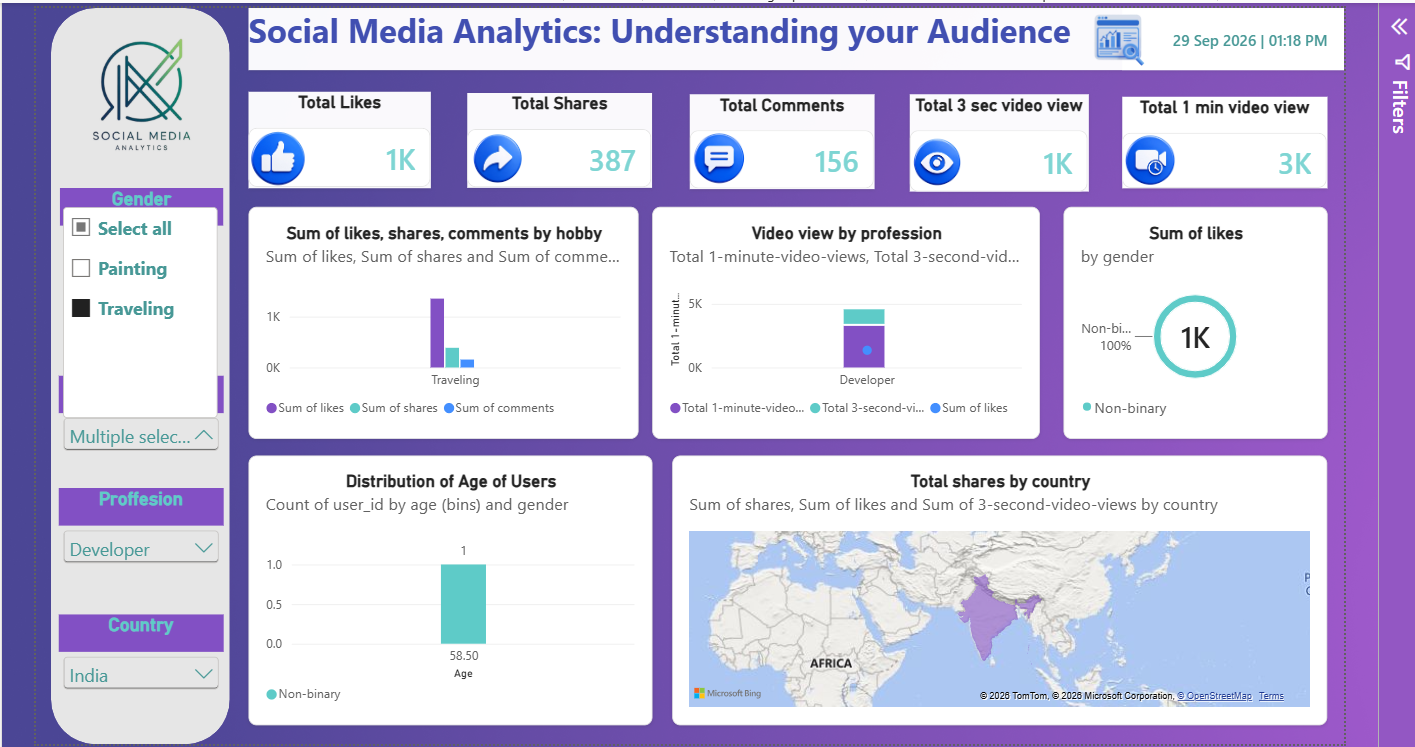

The dashboard page shown, as its layout file describes it:
{"tool":"powerbi","page":{"name":"Dashboard","canvas":[1280,720],"ordinal":0},"visuals":[{"type":"shape","box":[14.7,0,174.9,720.2],"z":1000},{"type":"textbox","box":[207.9,0,1072.4,61.1],"z":2000},{"type":"image","box":[3.7,8.6,199.3,151.6],"z":3000},{"type":"cardVisual","title":"Total Likes","fields":{"Data":["Sum(social_media_analysis.likes)"]},"box":[207.9,81.9,178.5,94.2],"z":4000},{"type":"cardVisual","title":"Total Shares","fields":{"Data":["Sum(social_media_analysis.shares)"]},"box":[421.9,83.2,181,92.9],"z":5000},{"type":"cardVisual","title":"Total Comments","fields":{"Data":["Sum(social_media_analysis.comments)"]},"box":[639.5,84.4,181,92.9],"z":6000},{"type":"cardVisual","title":"Total 1 min video view","fields":{"Data":["Sum(social_media_analysis.1-minute-video-views)"]},"box":[1062.6,86.8,200.5,89.3],"z":7000},{"type":"cardVisual","title":"Total 3 sec video view","fields":{"Data":["Sum(social_media_analysis.3-second-video-views)"]},"box":[854.8,84.4,174.9,95.4],"z":8000},{"type":"clusteredColumnChart","title":"Sum of likes, shares, comments by hobby","fields":{"Category":["social_media_analysis.hobby"],"Y":["Sum(social_media_analysis.likes)","Sum(social_media_analysis.shares)","Sum(social_media_analysis.comments)"]},"box":[207.9,194.4,381.5,227.4],"z":9000},{"type":"lineStackedColumnComboChart","title":"Video view by profession","fields":{"Category":["social_media_analysis.profession"],"Y":["Sum(social_media_analysis.1-minute-video-views)","Sum(social_media_analysis.3-second-video-views)"],"Y2":["Sum(social_media_analysis.likes)"]},"box":[602.9,194.4,379.1,227.4],"z":10000},{"type":"donutChart","fields":{"Category":["social_media_analysis.gender"],"Y":["Sum(social_media_analysis.likes)"]},"box":[1005.2,194.4,258,227.4],"z":11000},{"type":"columnChart","title":"Distribution of Age of Users","fields":{"Category":["social_media_analysis.age (bins)"],"Y":["CountNonNull(social_media_analysis.user_id)"],"Series":["social_media_analysis.gender"]},"box":[207.9,437.8,395,264.1],"z":12000},{"type":"slicer","title":"Gender","fields":{"Values":["social_media_analysis.gender"]},"box":[23.2,176.1,160.2,150.4],"z":13000},{"type":"slicer","title":"Hobby","fields":{"Values":["social_media_analysis.hobby"]},"box":[22,359.5,161.4,78.3],"z":14000},{"type":"slicer","title":"Proffesion","fields":{"Values":["social_media_analysis.profession"]},"box":[22,469.6,161.4,78.3],"z":15000},{"type":"filledMap","title":"Total shares by country","fields":{"Category":["social_media_analysis.country"]},"box":[622.4,437.8,640.8,264.1],"z":16000},{"type":"slicer","title":"Country","fields":{"Values":["social_media_analysis.country"]},"box":[22,593.1,161.4,78.3],"z":17000},{"type":"image","box":[421.9,97.8,59.9,100.3],"z":18000},{"type":"image","box":[639.5,105.2,57.5,84.4],"z":19000},{"type":"image","box":[854.8,107.6,53.8,86.8],"z":20000},{"type":"image","box":[1062.6,110.1,55,79.5],"z":21000},{"type":"image","box":[207.9,105.2,57.5,85.6],"z":22000},{"type":"cardVisual","fields":{"Data":["social_media_analysis.Last Update"]},"box":[1062.6,0,217.7,61.1],"z":23000},{"type":"image","box":[1032.1,0,53.8,61.1],"z":24000}]}

Visuals, with their boxes in screenshot pixels (x1, y1, x2, y2):
shape: 45,4,224,742
textbox: 242,4,1341,66
image: 33,12,237,168
"Total Likes" cardVisual: 242,88,425,184
"Total Shares" cardVisual: 462,89,647,184
"Total Comments" cardVisual: 685,90,870,185
"Total 1 min video view" cardVisual: 1118,93,1324,184
"Total 3 sec video view" cardVisual: 905,90,1084,188
"Sum of likes, shares, comments by hobby" clusteredColumnChart: 242,203,633,436
"Video view by profession" lineStackedColumnComboChart: 647,203,1036,436
donutChart - social_media_analysis.gender x Sum(social_media_analysis.likes): 1059,203,1324,436
"Distribution of Age of Users" columnChart: 242,452,647,723
"Gender" slicer: 53,184,217,338
"Hobby" slicer: 52,372,217,452
"Proffesion" slicer: 52,485,217,565
"Total shares by country" filledMap: 667,452,1324,723
"Country" slicer: 52,611,217,692
image: 462,104,523,207
image: 685,111,744,198
image: 905,114,960,203
image: 1118,116,1175,198
image: 242,111,301,199
cardVisual - social_media_analysis.Last Update: 1118,4,1341,66
image: 1087,4,1142,66
